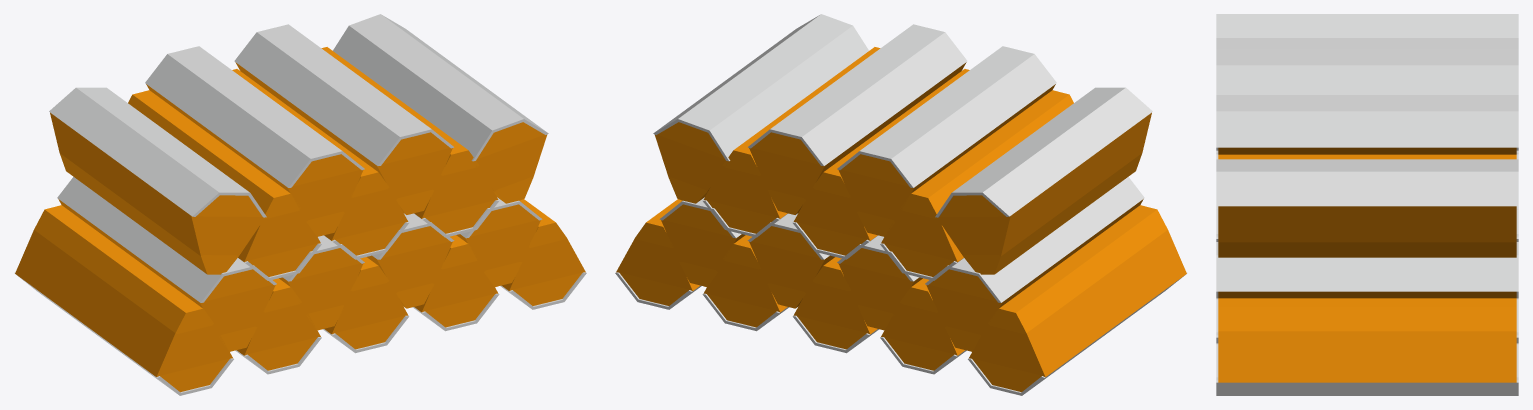
Rendered from Small Log_16.fbx.
3 views of the same model, side by side, from view 1: azimuth 30°, elevation 25°; view 2: azimuth 150°, elevation 25°; view 3: azimuth 270°, elevation 25° (orthographic). The views are drawn at different scales.
Visible parts, largest first — view 1: Circle.288; view 2: Circle.288; view 3: Circle.288.
Part boxes in pixels (x1,y1,x2,y2): Circle.288: (14, 14, 586, 395); Circle.288: (615, 14, 1187, 395); Circle.288: (1216, 14, 1518, 395).
Size of the model in its own units: 41.08 by 18.75 by 23.76.
